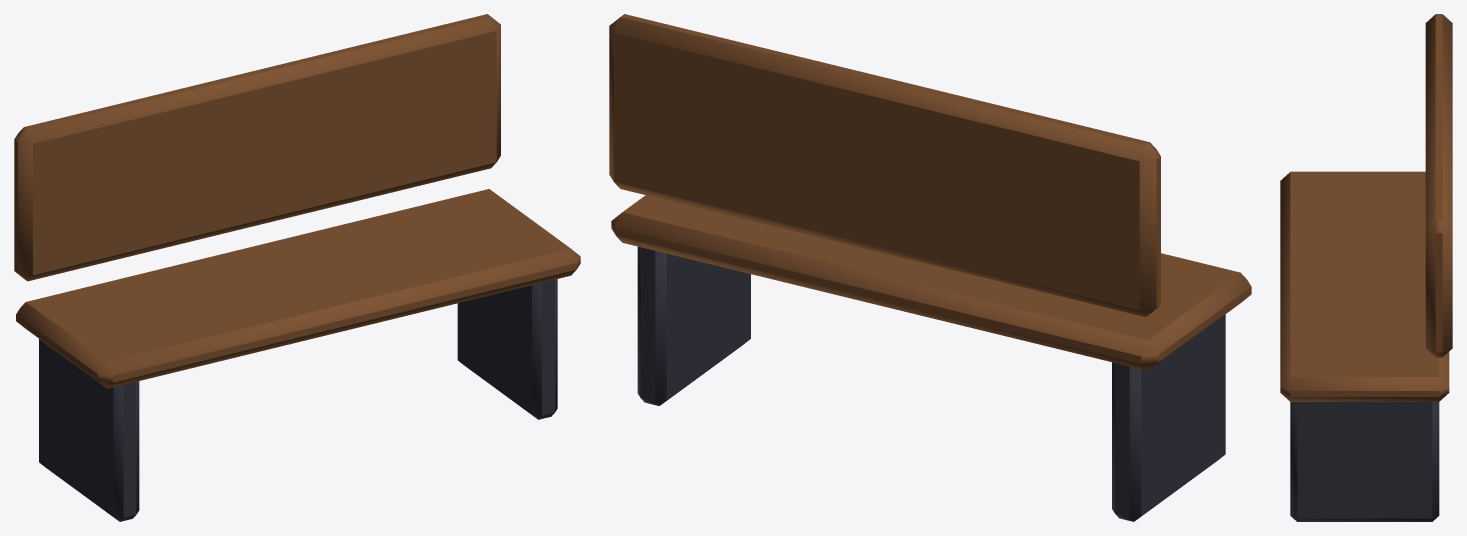
File: bench.glb
The picture shows the model from 3 angles, left to right: view 1: azimuth 30°, elevation 25°; view 2: azimuth 150°, elevation 25°; view 3: azimuth 270°, elevation 25°; orthographic projection. The views are drawn at different scales.
Parts seen in each view (by area): view 1: bench; view 2: bench; view 3: bench.
Boxes of the visible parts, box(x1,y1,x2,y2) form: bench: box(14, 14, 580, 521); bench: box(609, 14, 1251, 521); bench: box(1280, 14, 1452, 521).
Size of the model in its own units: 1.5 by 1.01 by 0.51.
